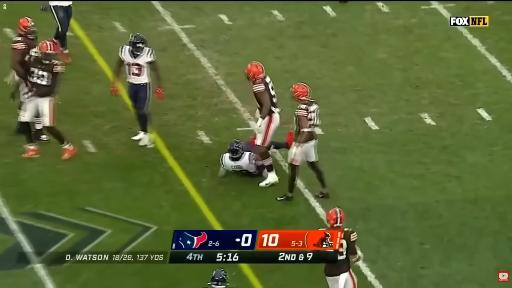Helmet: (38, 40, 59, 62), (208, 268, 228, 287), (246, 62, 265, 82), (18, 17, 36, 38), (129, 33, 146, 55), (291, 83, 311, 101), (327, 208, 344, 228), (228, 140, 243, 158)
Jersey: (28, 51, 65, 97), (324, 229, 357, 277), (119, 46, 155, 83), (252, 76, 279, 115), (11, 35, 37, 70), (295, 100, 320, 134), (220, 152, 258, 173), (11, 35, 37, 54), (49, 2, 72, 6)
Player: (21, 41, 77, 160), (277, 83, 329, 200), (111, 33, 163, 146), (246, 62, 280, 186), (10, 17, 37, 133), (324, 208, 360, 287), (41, 2, 72, 63), (219, 137, 265, 176), (208, 268, 229, 287)
